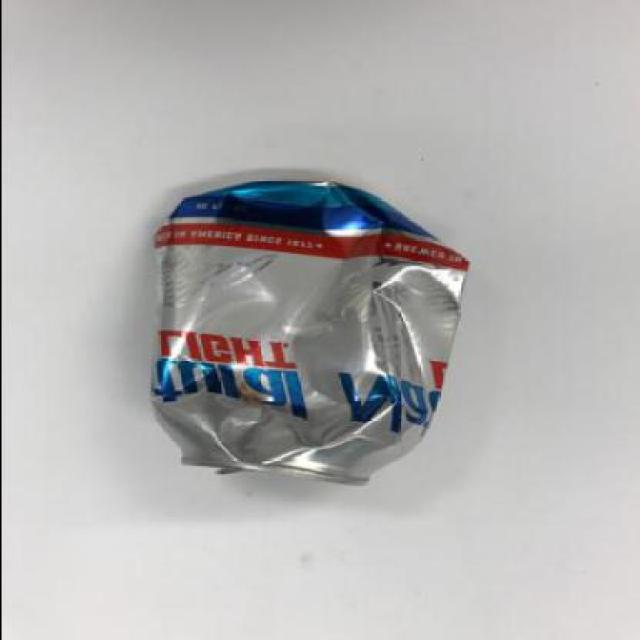METAL: (150, 182, 472, 489)
